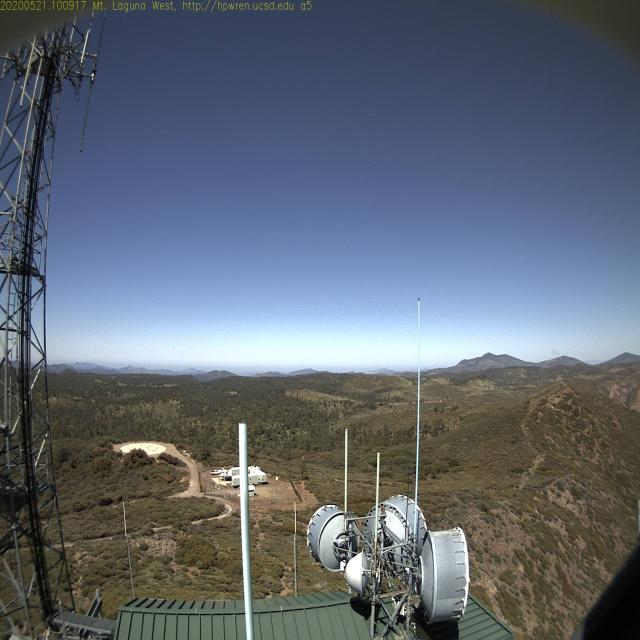smoke: (542, 329, 563, 373)
